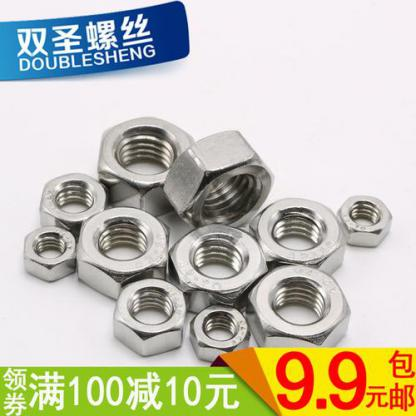FOD: (94, 115, 201, 217), (166, 132, 270, 232), (246, 261, 356, 351), (170, 220, 268, 307), (76, 208, 169, 291), (254, 194, 348, 276), (112, 274, 187, 359), (35, 172, 108, 238), (336, 193, 394, 247)
